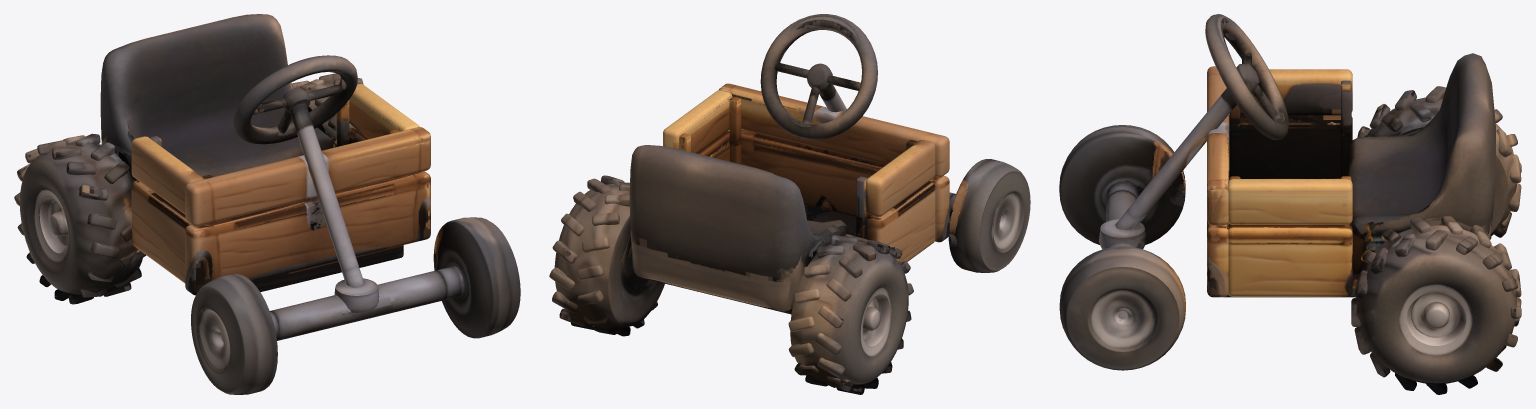
Rendered from kart.glb.
The picture shows the model from 3 angles, left to right: view 1: azimuth 30°, elevation 25°; view 2: azimuth 150°, elevation 25°; view 3: azimuth 270°, elevation 25°; orthographic projection. The views are drawn at different scales.
Visible parts, largest first — view 1: body, wheel_RR, wheel_FR, wheel_FL, steering_wheel, wheel_RL; view 2: body, wheel_RR, wheel_RL, wheel_FR, steering_wheel; view 3: body, wheel_RL, wheel_FL, wheel_FR, steering_wheel, wheel_RR.
Boxes of the visible parts, bbox=[...] form: body: bbox=[100, 14, 464, 340]; wheel_RR: bbox=[14, 133, 146, 304]; wheel_FR: bbox=[191, 274, 277, 394]; wheel_FL: bbox=[433, 217, 520, 338]; steering_wheel: bbox=[233, 55, 357, 144]; wheel_RL: bbox=[291, 73, 363, 147]; body: bbox=[629, 83, 955, 314]; wheel_RR: bbox=[788, 234, 913, 394]; wheel_RL: bbox=[549, 175, 664, 336]; wheel_FR: bbox=[948, 159, 1030, 272]; steering_wheel: bbox=[760, 14, 877, 139]; body: bbox=[1099, 53, 1495, 297]; wheel_RL: bbox=[1351, 216, 1521, 394]; wheel_FL: bbox=[1059, 246, 1185, 370]; wheel_FR: bbox=[1059, 125, 1185, 244]; steering_wheel: bbox=[1205, 14, 1288, 140]; wheel_RR: bbox=[1357, 86, 1521, 239].
Bounding box in the file's own units: 1.06 × 0.9027 × 1.28.
Materials: 1 (1 with a texture image).
